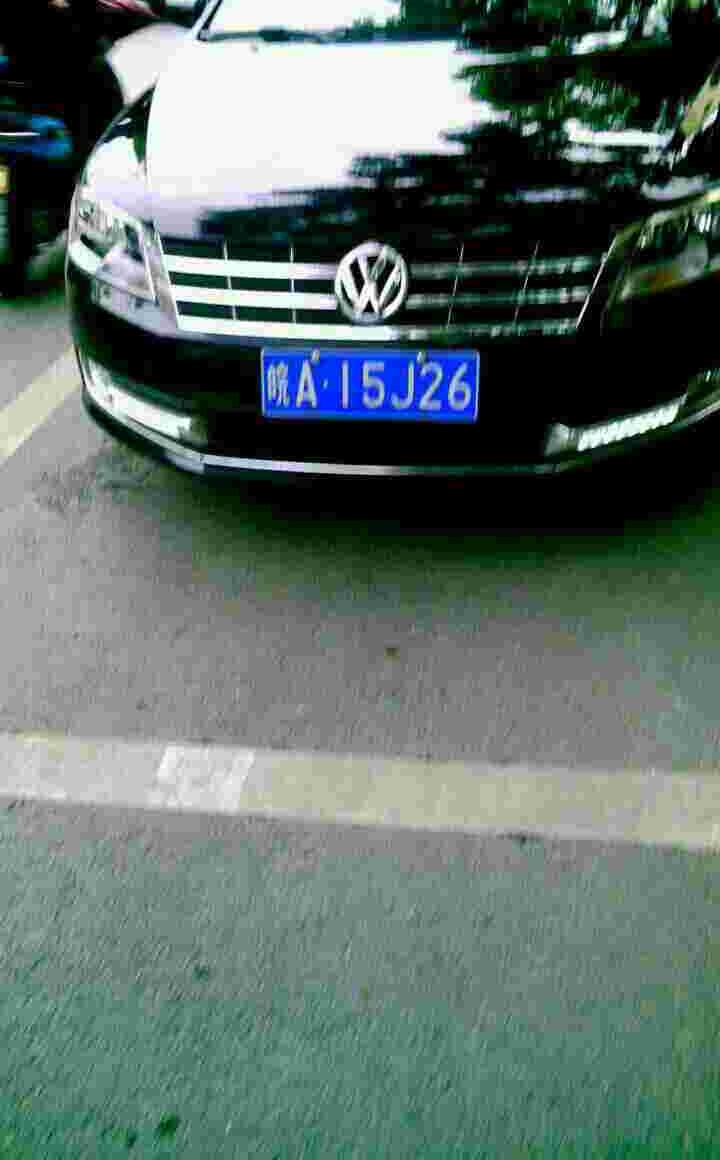license_plate: (269, 341, 482, 424)
